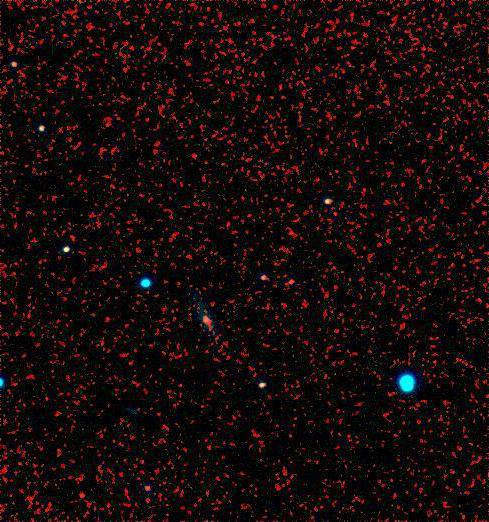star: (68, 480, 98, 510)
